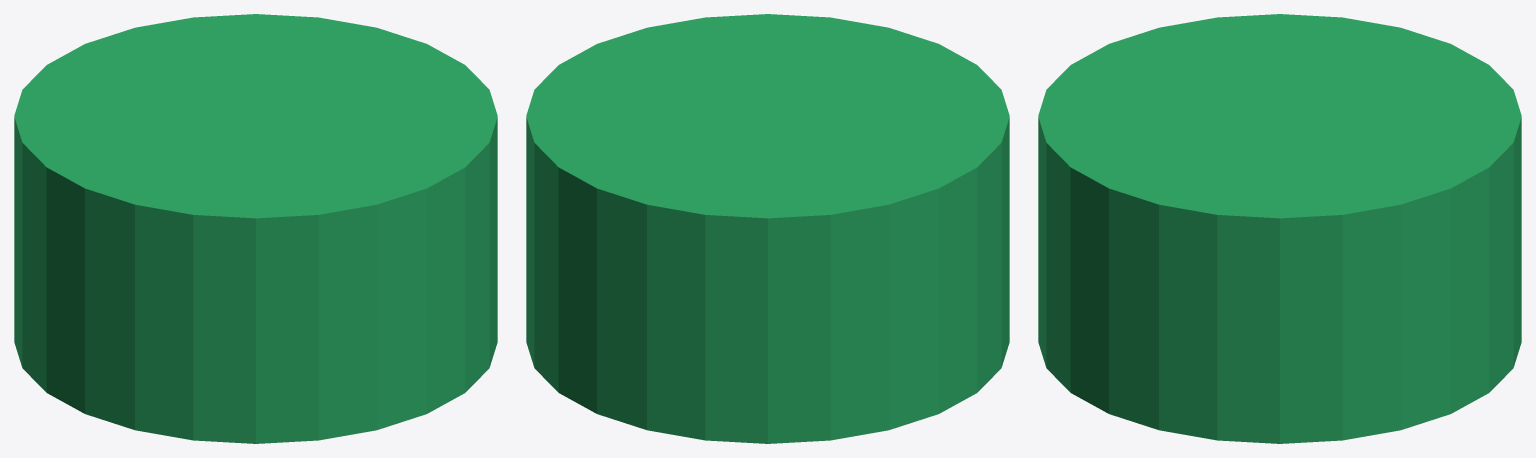
Rendered from MotionReady_Tank_Auto_Switch.obj.
3 renders of one model, left to right at view 1: azimuth 30°, elevation 25°; view 2: azimuth 150°, elevation 25°; view 3: azimuth 270°, elevation 25°, orthographic.
Visible parts, largest first — view 1: Tank_Auto_Button; view 2: Tank_Auto_Button; view 3: Tank_Auto_Button.
Part boxes in pixels (<box>): Tank_Auto_Button: <box>14,14,497,443</box>; Tank_Auto_Button: <box>526,14,1009,443</box>; Tank_Auto_Button: <box>1038,14,1521,443</box>.
Bounding box in the file's own units: 68 × 35 × 68.
